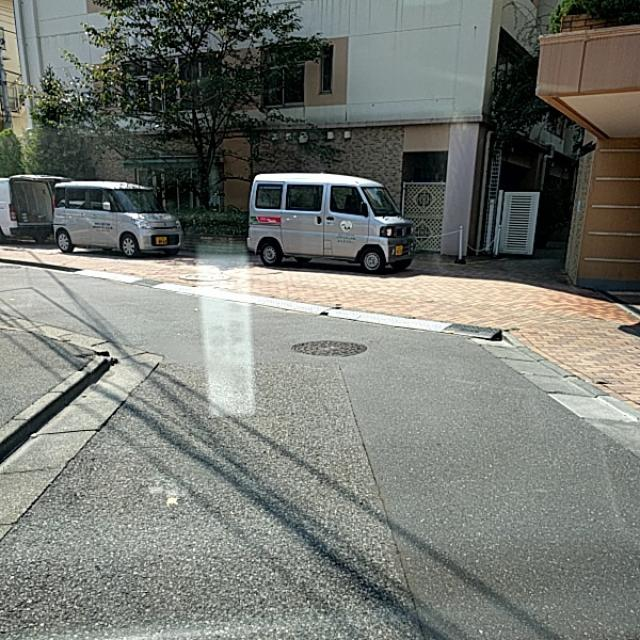pothole: (56, 396, 90, 472)
